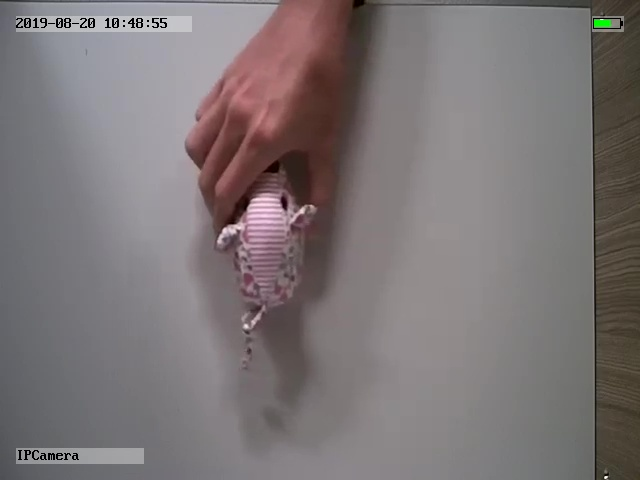pig: (217, 162, 323, 371)
